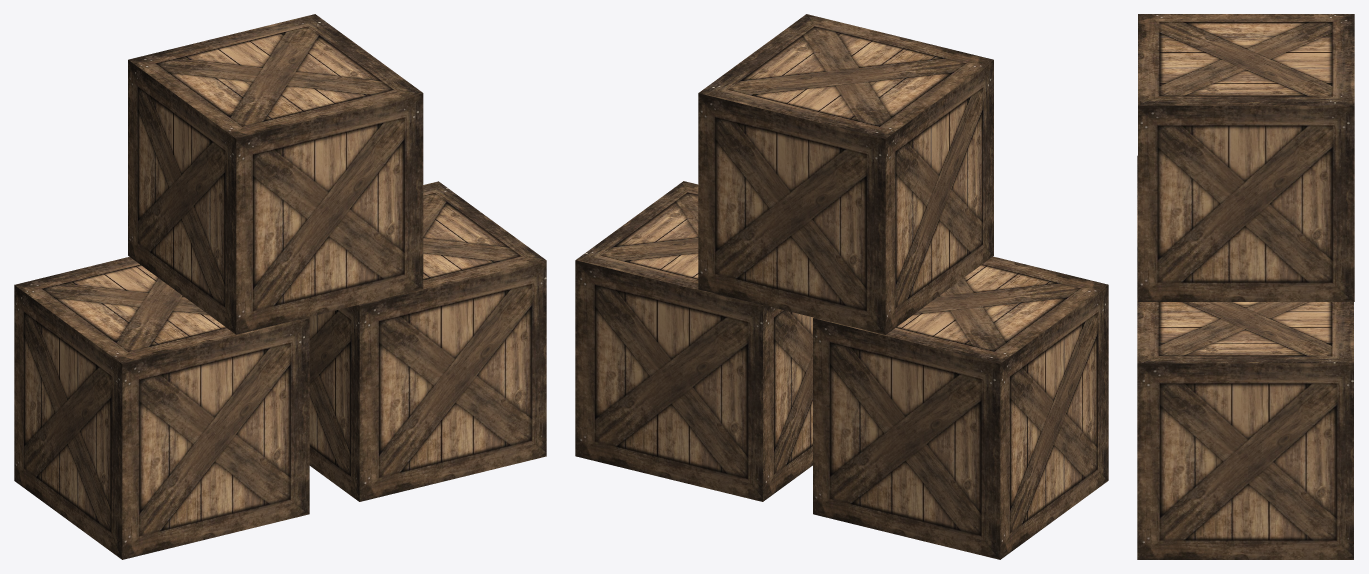
The model's file is boxx.fbx.
The picture shows the model from 3 angles, left to right: view 1: azimuth 30°, elevation 25°; view 2: azimuth 150°, elevation 25°; view 3: azimuth 270°, elevation 25°; orthographic projection.
Visible parts, largest first — view 1: Box003, Box002, Box001; view 2: Box003, Box002, Box001; view 3: Box003, Box001.
Boxes of the visible parts, x1,y1,x2,y2 form: Box003: (128, 14, 423, 334); Box002: (14, 257, 309, 559); Box001: (308, 181, 546, 501); Box003: (698, 14, 993, 334); Box002: (813, 256, 1108, 559); Box001: (575, 181, 813, 501); Box003: (1138, 14, 1354, 301); Box001: (1137, 272, 1353, 559).
Bounding box in the file's own units: 268 × 237 × 118.
Materials: 1 (1 with a texture image).
